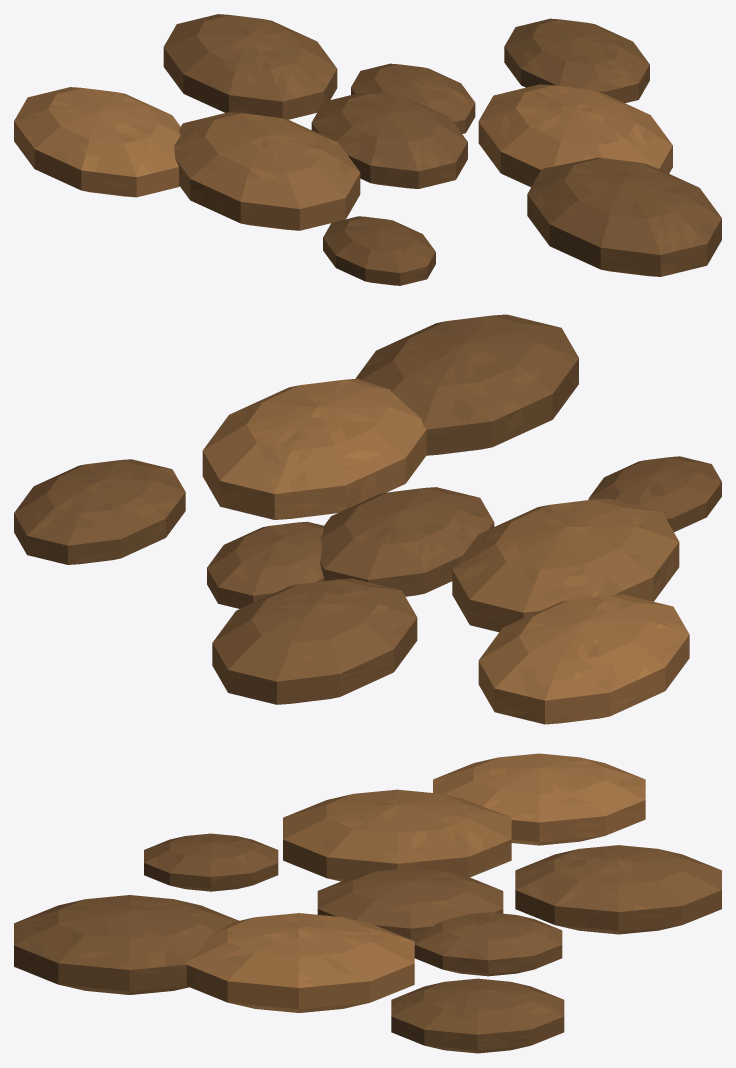
The model's file is seed_asparagus.glb.
The picture shows the model from 3 angles, top to bottom: view 1: azimuth 30°, elevation 25°; view 2: azimuth 150°, elevation 25°; view 3: azimuth 270°, elevation 25°; orthographic projection. The views are drawn at different scales.
Visible parts, largest first — view 1: block_grain 8, block_grain 2, block_grain 7, block_grain 4, block_grain 3, block_grain 0, block_grain 6, block_grain 5, block_grain 1; view 2: block_grain 3, block_grain 7, block_grain 8, block_grain 2, block_grain 4, block_grain 6, block_grain 0, block_grain 1, block_grain 5; view 3: block_grain 3, block_grain 2, block_grain 8, block_grain 4, block_grain 7, block_grain 6, block_grain 0, block_grain 1, block_grain 5.
Boxes of the visible parts, <box> form: block_grain 8: <box>527,157,721,276</box>; block_grain 2: <box>174,112,360,230</box>; block_grain 7: <box>14,87,180,197</box>; block_grain 4: <box>163,14,337,119</box>; block_grain 3: <box>478,84,672,186</box>; block_grain 0: <box>311,92,467,188</box>; block_grain 6: <box>504,18,649,103</box>; block_grain 5: <box>323,216,435,285</box>; block_grain 1: <box>351,63,475,133</box>; block_grain 3: <box>202,378,426,519</box>; block_grain 7: <box>478,594,689,724</box>; block_grain 8: <box>355,314,578,455</box>; block_grain 2: <box>452,498,679,632</box>; block_grain 4: <box>212,578,417,704</box>; block_grain 6: <box>14,459,185,564</box>; block_grain 0: <box>319,487,494,596</box>; block_grain 1: <box>207,521,324,608</box>; block_grain 5: <box>588,456,721,532</box>; block_grain 3: <box>186,913,414,1012</box>; block_grain 2: <box>283,789,511,881</box>; block_grain 8: <box>14,895,238,994</box>; block_grain 4: <box>515,845,721,934</box>; block_grain 7: <box>433,753,645,845</box>; block_grain 6: <box>391,978,564,1053</box>; block_grain 0: <box>317,868,503,940</box>; block_grain 1: <box>414,912,562,976</box>; block_grain 5: <box>144,833,278,891</box>.
Bounding box in the file's own units: 0.0199 × 0.00238 × 0.022.
Materials: 1 (1 with a texture image).
